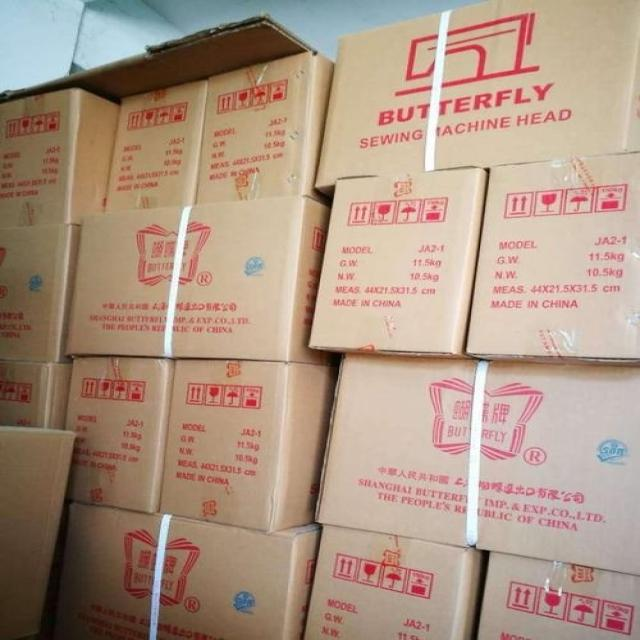box: (315, 353, 639, 575), (314, 0, 638, 200), (66, 195, 342, 366), (38, 498, 323, 639), (467, 152, 639, 367), (308, 168, 489, 359), (159, 359, 340, 531), (196, 51, 336, 208), (303, 524, 490, 639), (65, 357, 175, 513), (0, 88, 120, 227), (1, 425, 78, 639), (477, 551, 639, 639), (105, 80, 208, 213), (0, 224, 83, 363), (0, 360, 73, 431)
